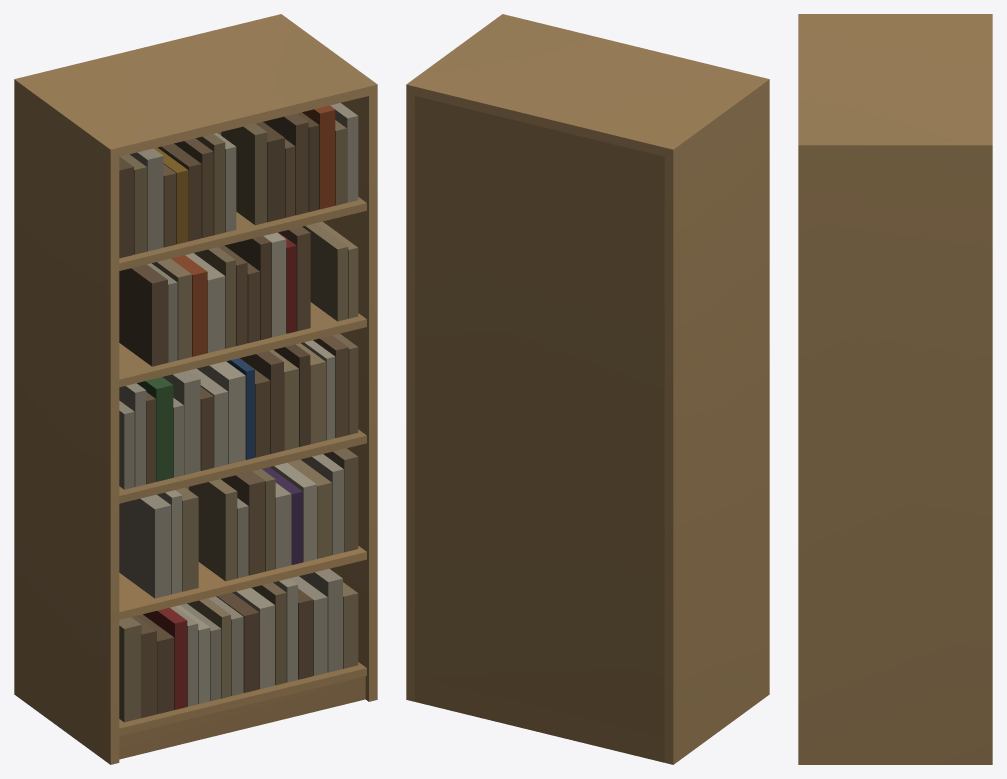
The model's file is bookcase.tall.ledgers.glb.
3 views of the same model, side by side, from view 1: azimuth 30°, elevation 25°; view 2: azimuth 150°, elevation 25°; view 3: azimuth 270°, elevation 25° (orthographic).
Parts seen in each view (by area): view 1: bookcase_tall_ledgers; view 2: bookcase_tall_ledgers; view 3: bookcase_tall_ledgers.
Part boxes in pixels (x1,y1,x2,y2): bookcase_tall_ledgers: (14, 14, 377, 764); bookcase_tall_ledgers: (406, 14, 769, 764); bookcase_tall_ledgers: (798, 14, 992, 764).
Size of what is drawn, in the model's own units: 0.909 by 2 by 0.568.
